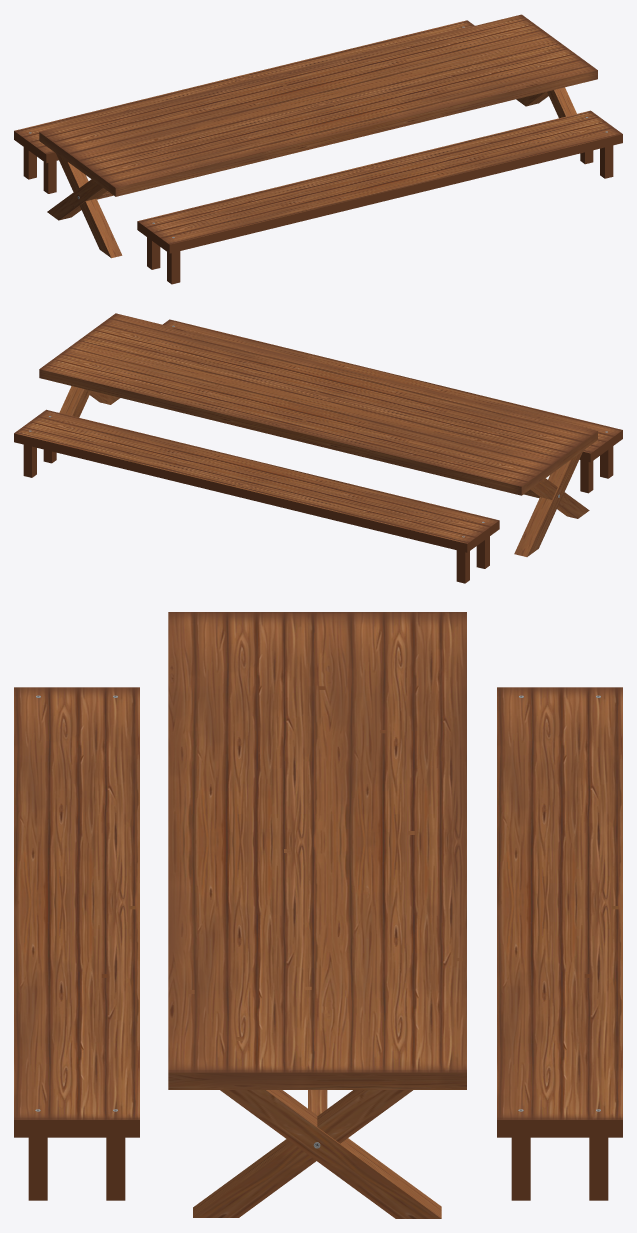
Rendered from Table.fbx.
3 views of the same model, one above another, from view 1: azimuth 30°, elevation 25°; view 2: azimuth 150°, elevation 25°; view 3: azimuth 270°, elevation 25° (orthographic). The views are drawn at different scales.
Parts seen in each view (by area): view 1: Cylinder.008_Dark Wood_0; view 2: Cylinder.008_Dark Wood_0; view 3: Cylinder.008_Dark Wood_0.
Boxes of the visible parts, <box> form: Cylinder.008_Dark Wood_0: <box>14,14,622,284</box>; Cylinder.008_Dark Wood_0: <box>14,313,622,583</box>; Cylinder.008_Dark Wood_0: <box>14,612,622,1218</box>.
Bounding box in the file's own units: 719 × 107 × 402.
